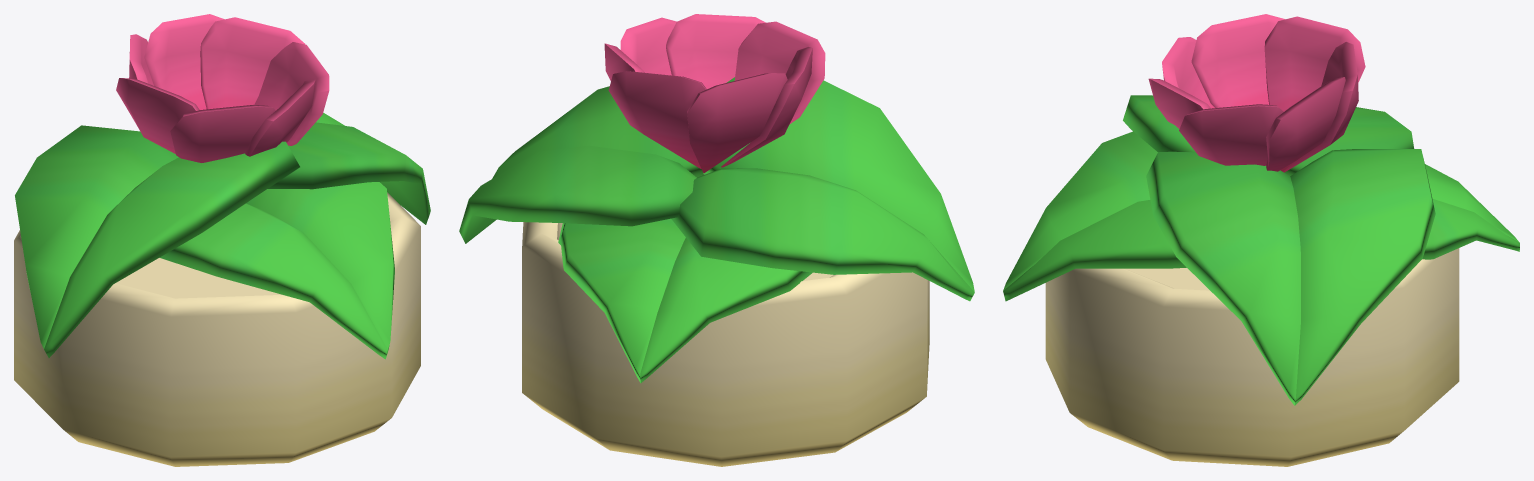
File: Pot_07.fbx
3 renders of one model, left to right at view 1: azimuth 30°, elevation 25°; view 2: azimuth 150°, elevation 25°; view 3: azimuth 270°, elevation 25°, orthographic. The views are drawn at different scales.
Visible parts, largest first — view 1: Pot_07, Leaves, Flower_01; view 2: Leaves, Pot_07, Flower_01; view 3: Leaves, Pot_07, Flower_01.
Boxes of the visible parts, x1,y1,x2,y2 form: Pot_07: (14, 192, 420, 466); Leaves: (15, 113, 430, 359); Flower_01: (116, 14, 329, 162); Leaves: (459, 77, 974, 383); Pot_07: (522, 222, 929, 466); Flower_01: (604, 14, 825, 173); Leaves: (1003, 95, 1519, 405); Pot_07: (1045, 248, 1459, 466); Flower_01: (1148, 14, 1365, 172).
Size of the model in its own units: 1.97 by 1.43 by 1.96.
